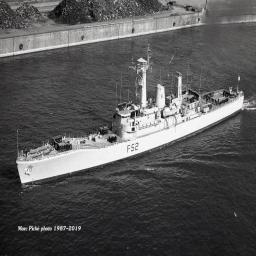Fragata: (15, 44, 247, 189)
